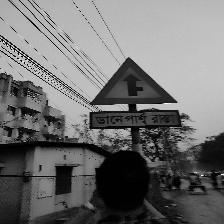Side-road-right: (90, 58, 178, 133)
